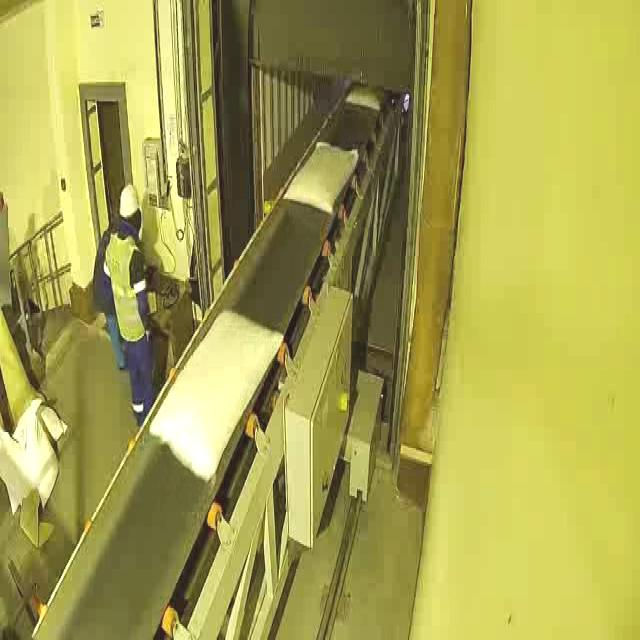bag: (148, 302, 284, 484), (283, 135, 360, 217), (346, 88, 390, 109)
